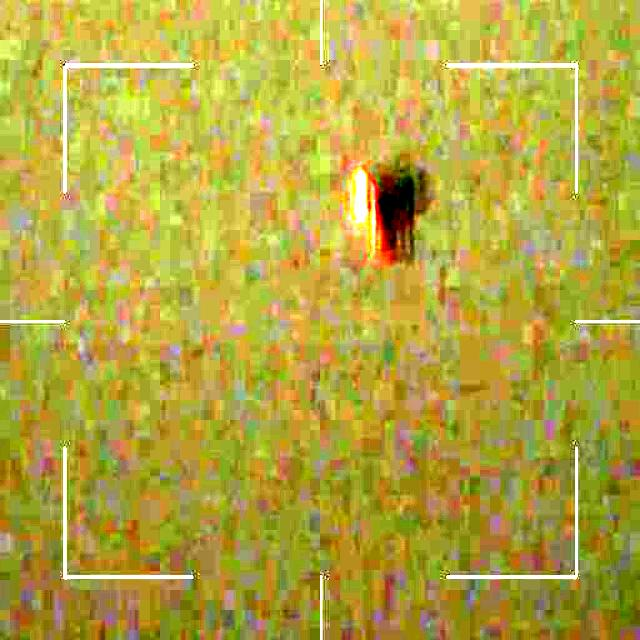bird: (348, 156, 431, 258)
